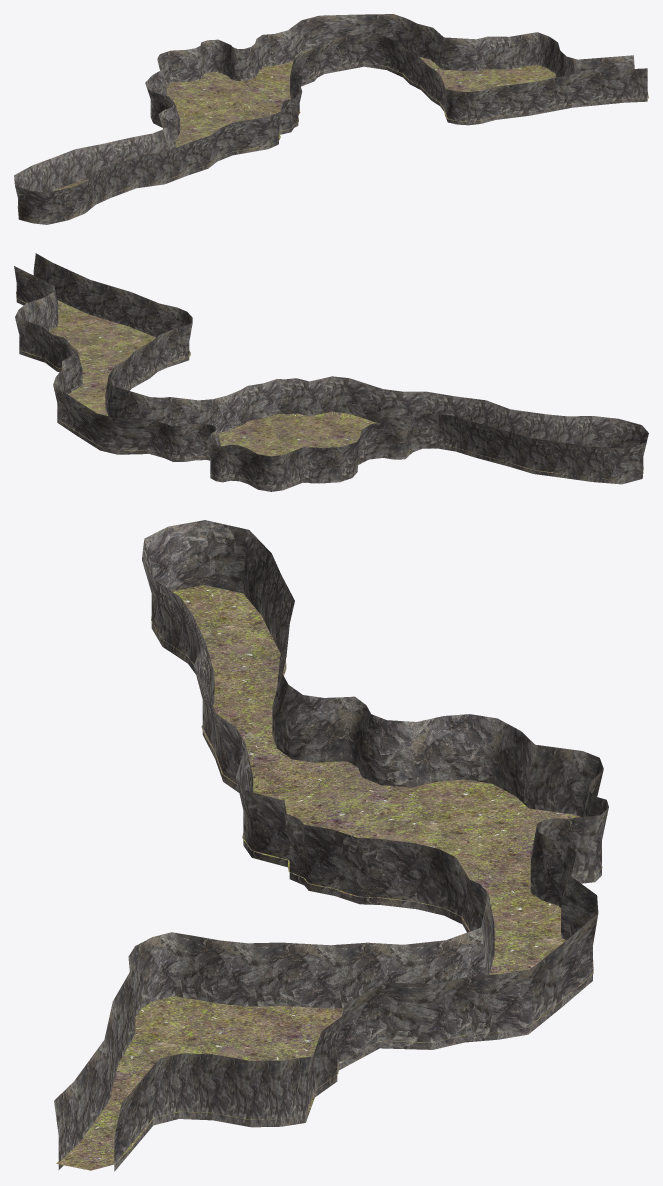
File: Stage.fbx
3 renders of one model, top to bottom at view 1: azimuth 30°, elevation 25°; view 2: azimuth 150°, elevation 25°; view 3: azimuth 270°, elevation 25°, orthographic. The views are drawn at different scales.
Parts seen in each view (by area): view 1: RockWall; view 2: RockWall; view 3: RockWall.
Boxes of the visible parts, x1,y1,x2,y2 form: RockWall: (14, 14, 648, 224); RockWall: (14, 253, 648, 491); RockWall: (54, 520, 608, 1171).
Bounding box in the file's own units: 100 × 5.46 × 39.87.
